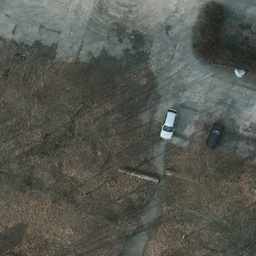car: (204, 119, 222, 152), (160, 106, 178, 138)
